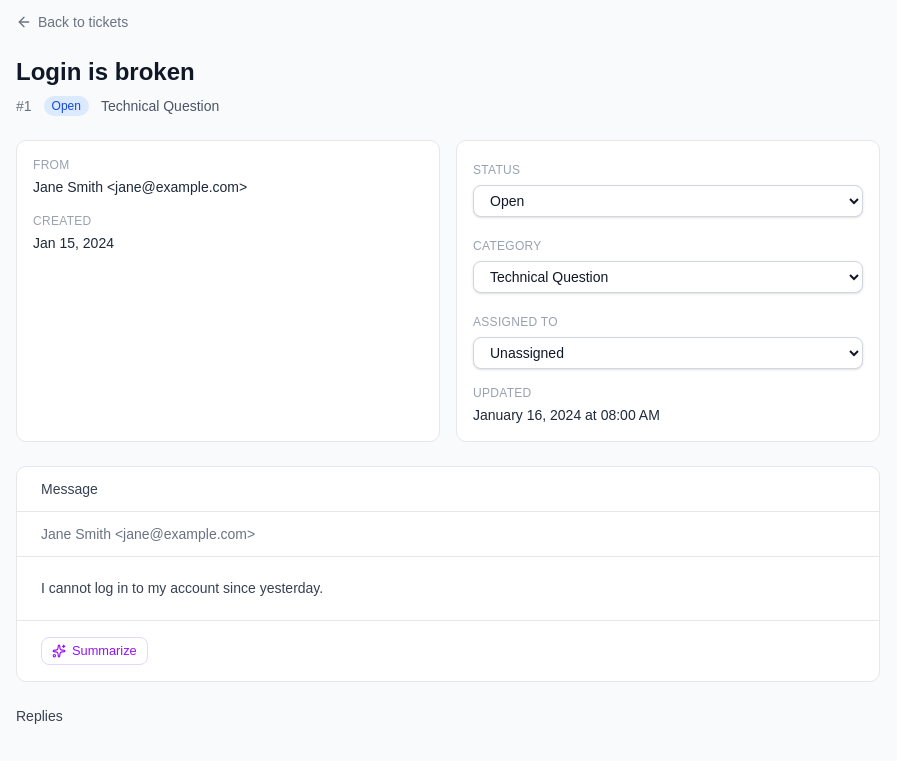
Test: TicketDetailPage › mutation error state › shows 'Failed to update ticket.' when the status PATCH request fails
Select "Resolved" in the dropdown labelled "Status" at (668, 201), box left=473, top=185, right=863, bottom=217
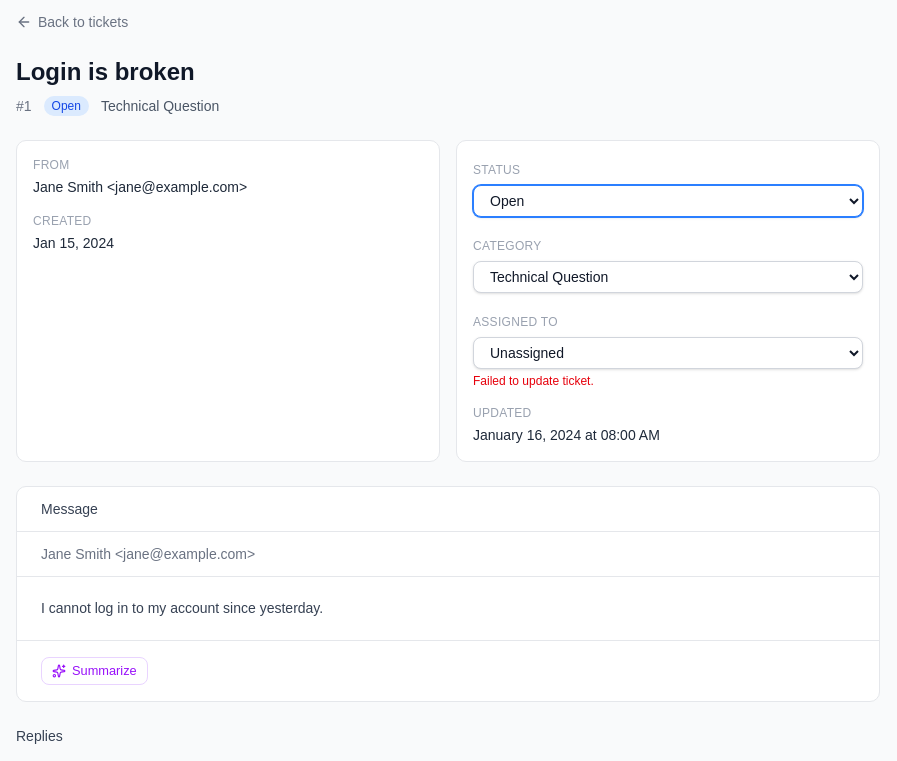
Result: the text "Failed to update ticket." is shown at left=473, top=374, right=594, bottom=388
